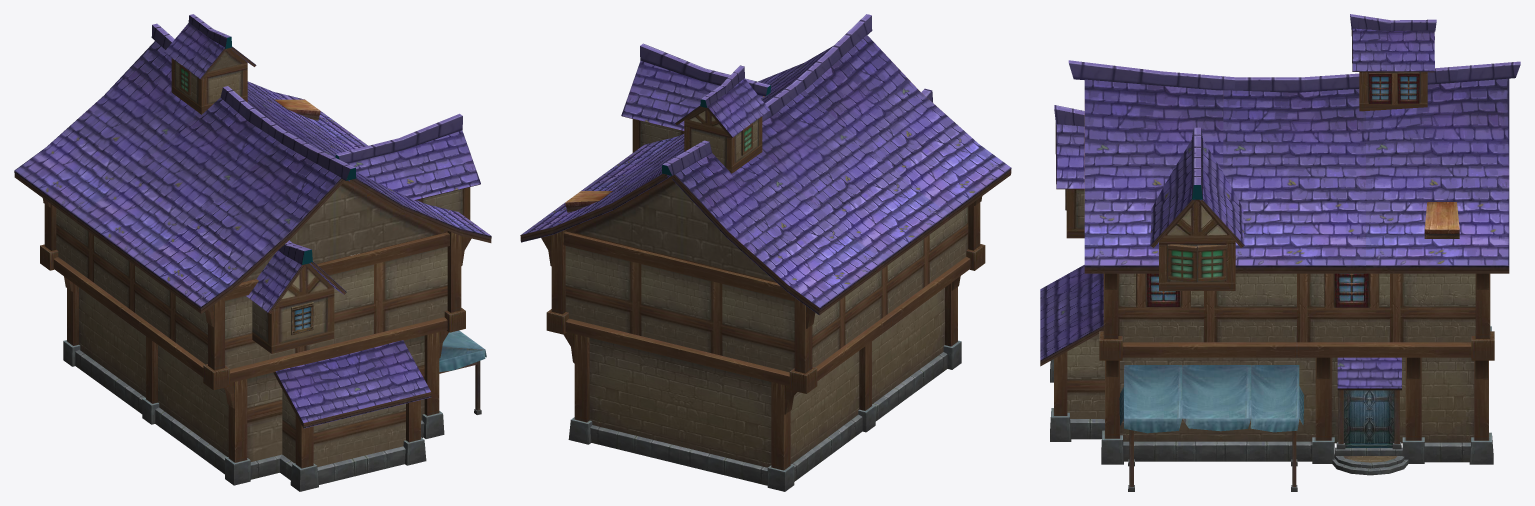
The model's file is zhucheng_wuzi01.FBX.
3 renders of one model, left to right at view 1: azimuth 30°, elevation 25°; view 2: azimuth 150°, elevation 25°; view 3: azimuth 270°, elevation 25°, orthographic. The views are drawn at different scales.
Visible parts, largest first — view 1: zhucheng_wuzi01; view 2: zhucheng_wuzi01; view 3: zhucheng_wuzi01.
Part boxes in pixels (<box>): zhucheng_wuzi01: <box>14,14,491,491</box>; zhucheng_wuzi01: <box>520,14,1011,491</box>; zhucheng_wuzi01: <box>1040,14,1520,491</box>.
Bounding box in the file's own units: 388 × 457 × 410.
